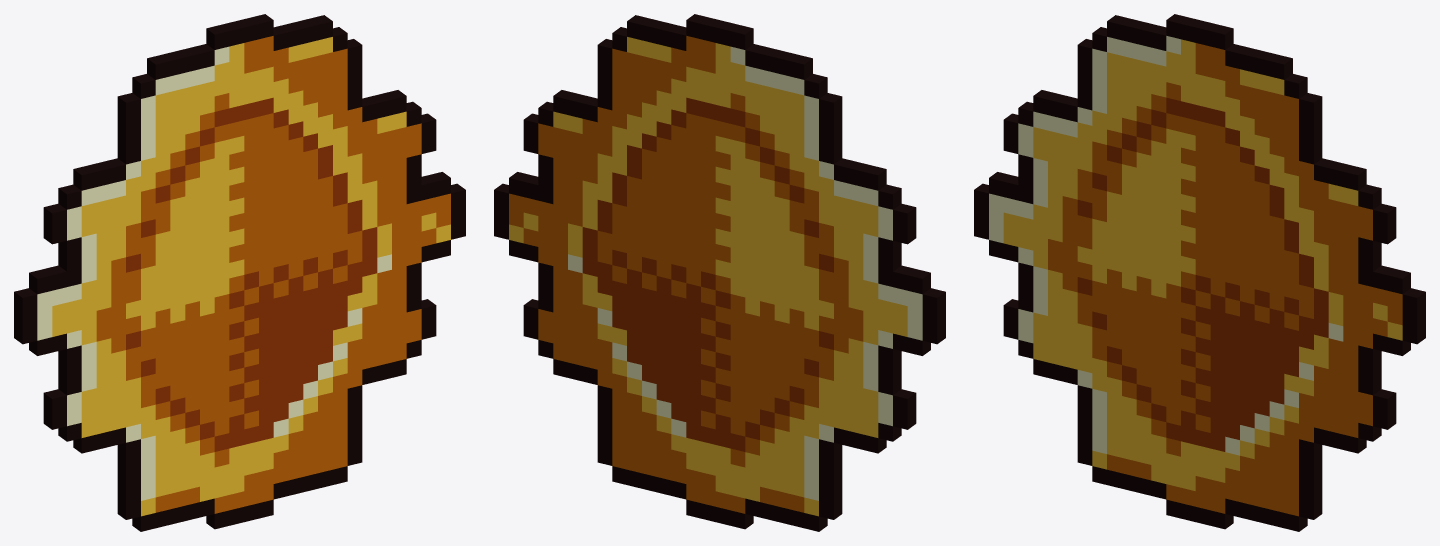
File: E_Gold02.fbx
3 renders of one model, left to right at view 1: azimuth 30°, elevation 25°; view 2: azimuth 150°, elevation 25°; view 3: azimuth 330°, elevation 25°, orthographic.
Visible parts, largest first — view 1: Default; view 2: Default; view 3: Default.
Part boxes in pixels (x1,y1,x2,y2): Default: (14,14,465,531); Default: (494,14,945,531); Default: (974,14,1425,531).
Bounding box in the file's own units: 30 × 32 × 1.
1 material, 1 textured.
